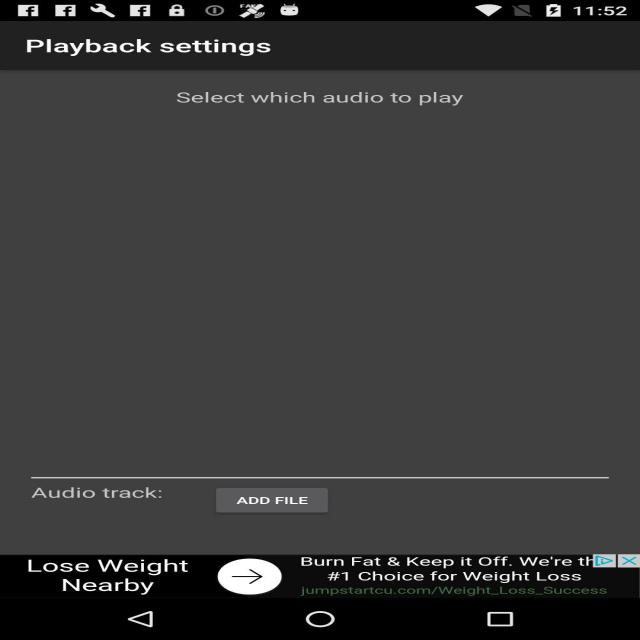button: (213, 556, 295, 598), (587, 551, 638, 568)
icon: (287, 608, 365, 634), (466, 606, 535, 633), (120, 605, 169, 630)
text: (313, 545, 595, 591), (13, 27, 316, 59), (34, 560, 210, 596), (164, 90, 515, 108), (29, 482, 154, 502), (233, 491, 303, 506)
